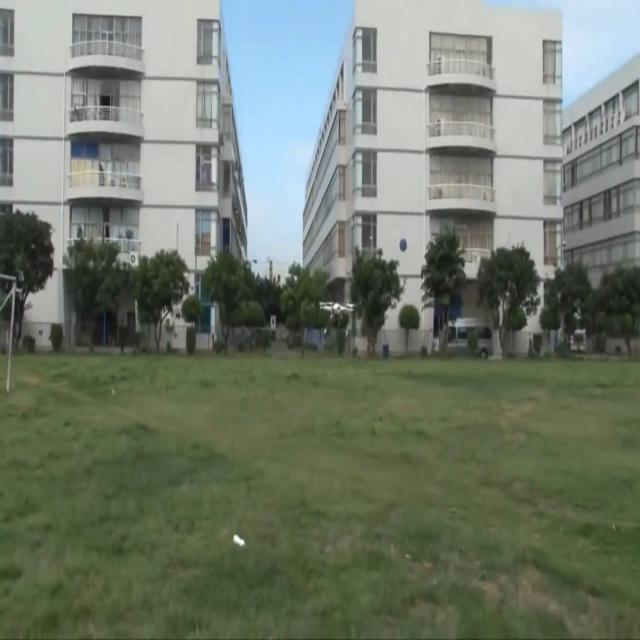drone: (319, 296, 357, 340)
